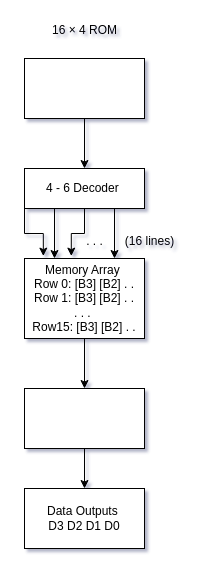
This 208x572 diagram has some shape labels left out. The centre of each missing label's shape, as x and y in pixels:
Address Inputs A3 A2 A1 A0: the point at 84,88
Output Buffers (Optional): the point at 84,418
